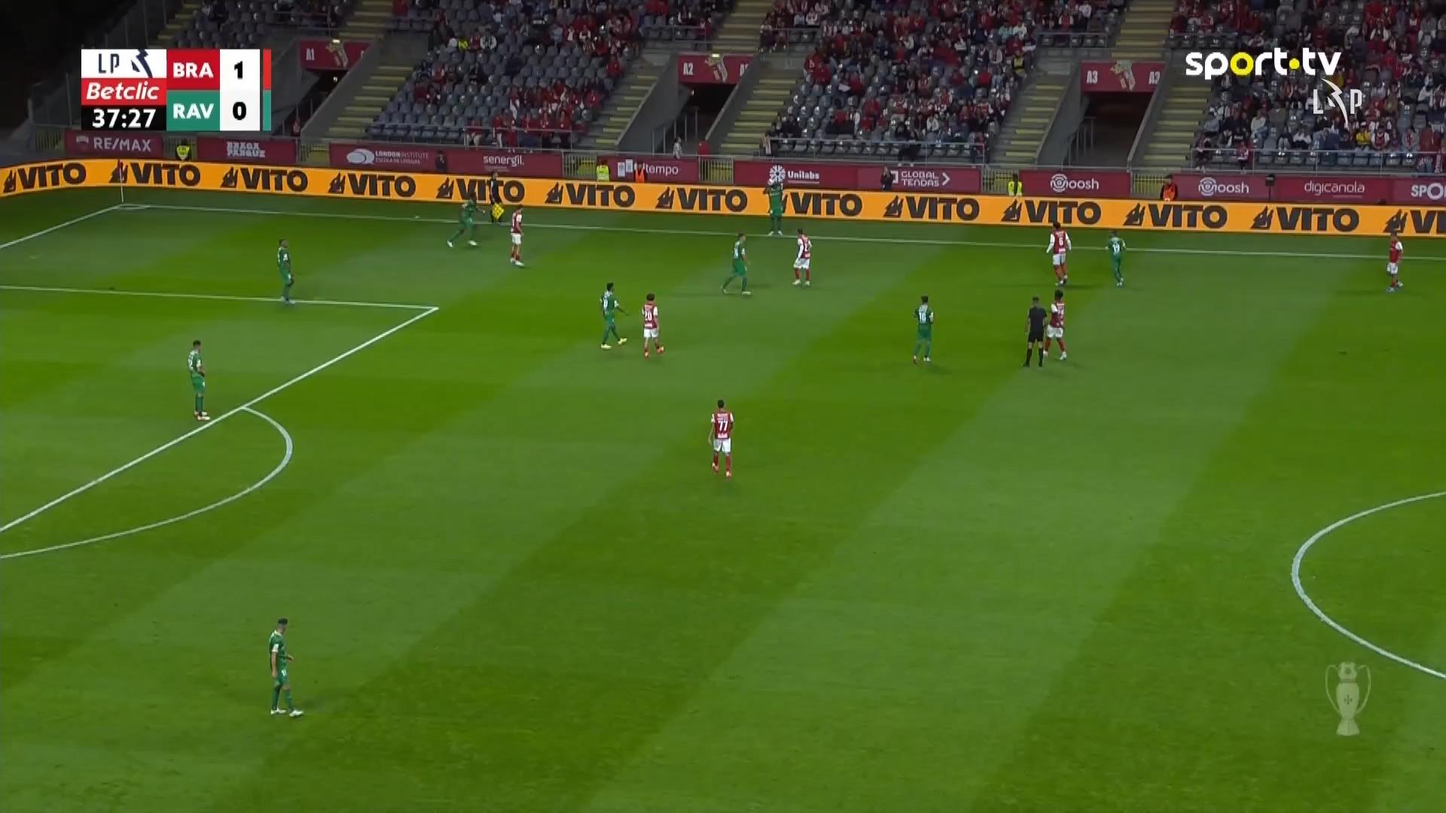ball: (768, 178, 774, 186)
player: (268, 617, 304, 717), (707, 398, 734, 478), (445, 191, 480, 248), (720, 232, 751, 296), (599, 282, 628, 349), (1042, 288, 1067, 360), (187, 339, 209, 420), (1045, 221, 1072, 287), (911, 294, 934, 364), (640, 292, 664, 358), (764, 175, 786, 236), (791, 227, 813, 287), (1105, 229, 1126, 287), (276, 238, 294, 303), (1385, 232, 1404, 291), (508, 206, 526, 266)
referee: (1022, 295, 1048, 367), (486, 170, 504, 224)
